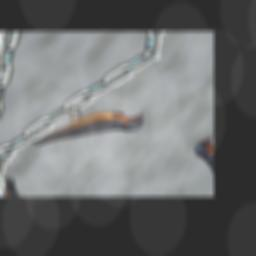Swallow: (29, 86, 152, 172)
